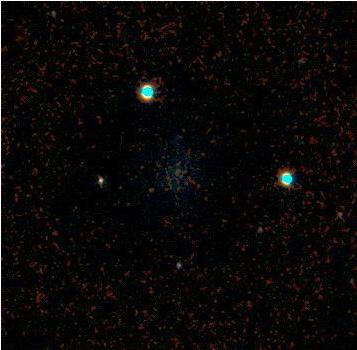star: (135, 170, 165, 200)
